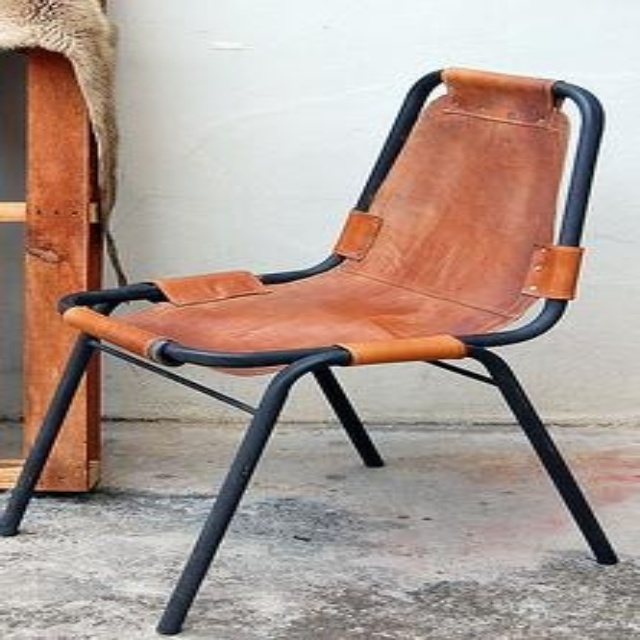obstacle: (3, 68, 614, 633)
